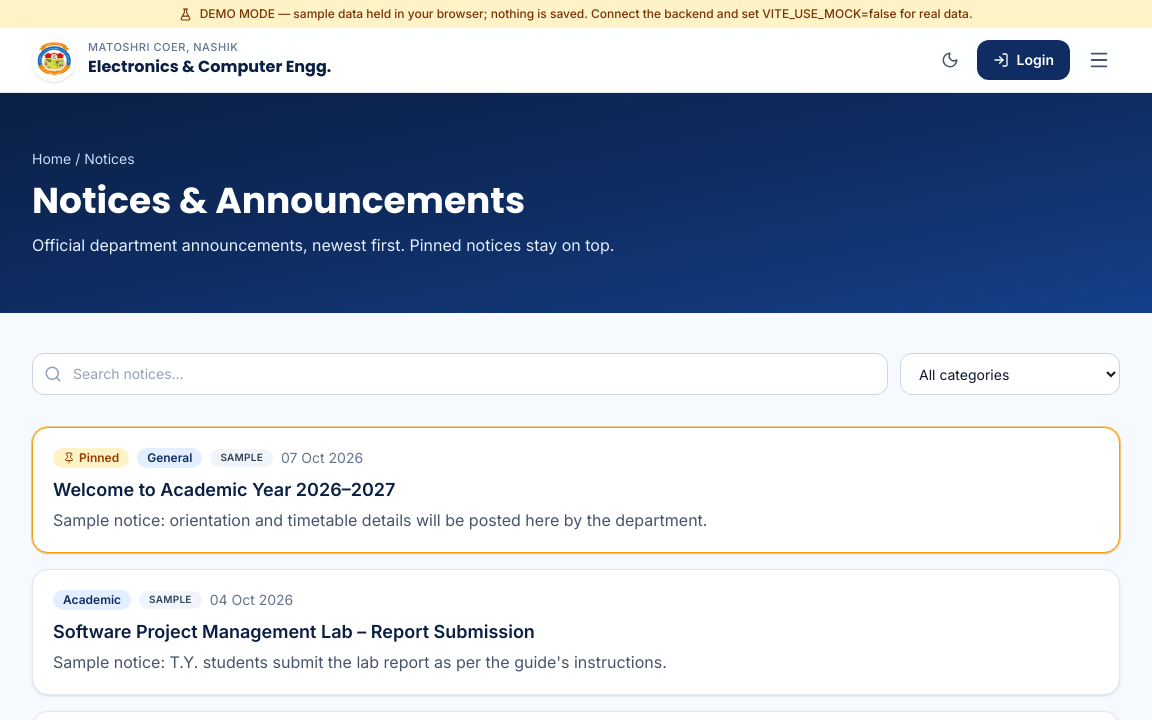
Test case: public pages (demo mode) › notices page shows pinned notice first and empty state for no match
Expected: the heading "Welcome to Academic Year 2026–2027" is shown, [53,479,395,500]
Type "zzzzqqq" into the search field.
click(460, 374); type("zzzzqqq")  # box [32,353,888,395]
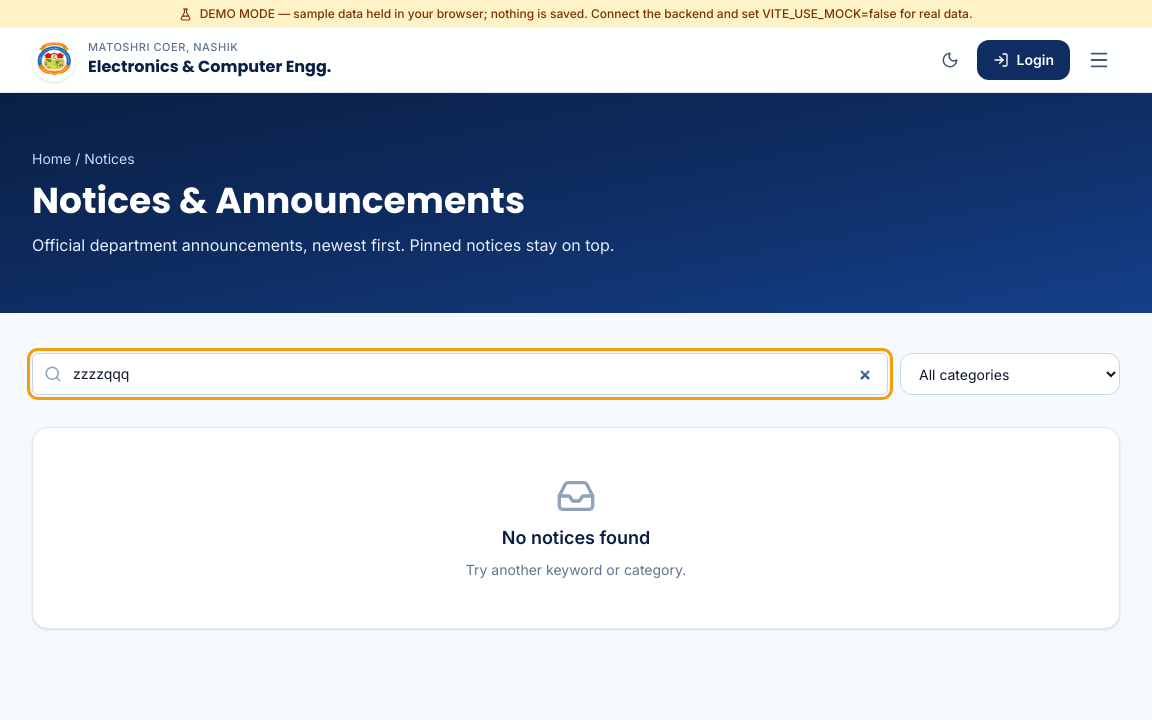
Result: the heading "No notices found" is shown at [502,524,650,552]
